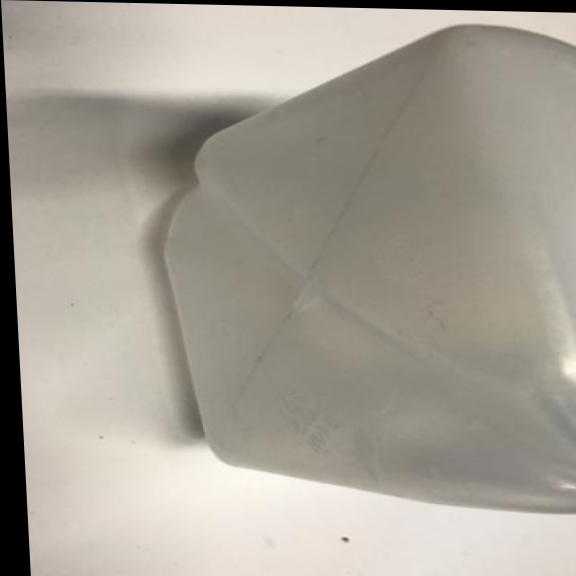Plastik: (140, 10, 576, 529)
